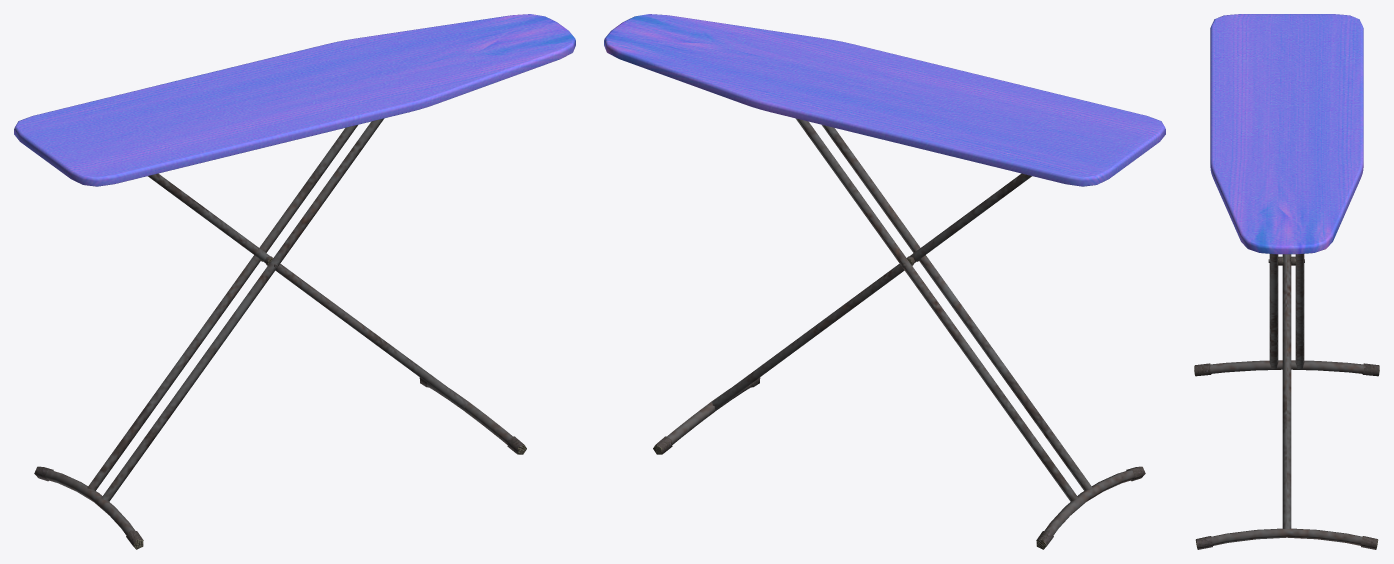
The model's file is SM_IroningBoard.FBX.
The picture shows the model from 3 angles, left to right: view 1: azimuth 30°, elevation 25°; view 2: azimuth 150°, elevation 25°; view 3: azimuth 270°, elevation 25°; orthographic projection. The views are drawn at different scales.
Parts seen in each view (by area): view 1: SM_IroningBoard_LOD0; view 2: SM_IroningBoard_LOD0; view 3: SM_IroningBoard_LOD0.
Boxes of the visible parts, <box> form: SM_IroningBoard_LOD0: <box>14,14,575,549</box>; SM_IroningBoard_LOD0: <box>604,14,1165,549</box>; SM_IroningBoard_LOD0: <box>1194,14,1379,549</box>.
Size of what is drawn, in the model's own units: 149 by 102 by 50.13.
